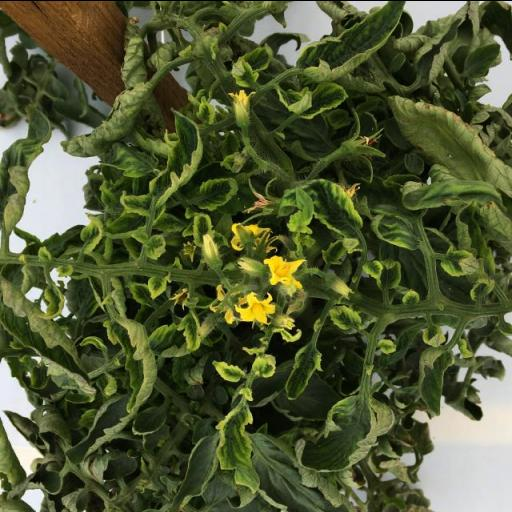Yellow Leaf Curl Virus: (295, 386, 397, 474), (148, 106, 204, 208), (106, 312, 158, 414), (294, 176, 364, 248), (214, 404, 260, 496), (275, 80, 350, 120), (417, 346, 456, 415), (372, 206, 424, 253), (285, 342, 323, 399), (195, 176, 238, 212), (439, 245, 481, 276), (176, 309, 204, 352), (321, 236, 359, 266), (80, 210, 104, 252), (39, 281, 65, 319), (240, 42, 274, 70), (328, 304, 361, 330), (376, 257, 402, 288), (231, 58, 259, 86), (120, 190, 150, 216), (211, 360, 245, 382)
